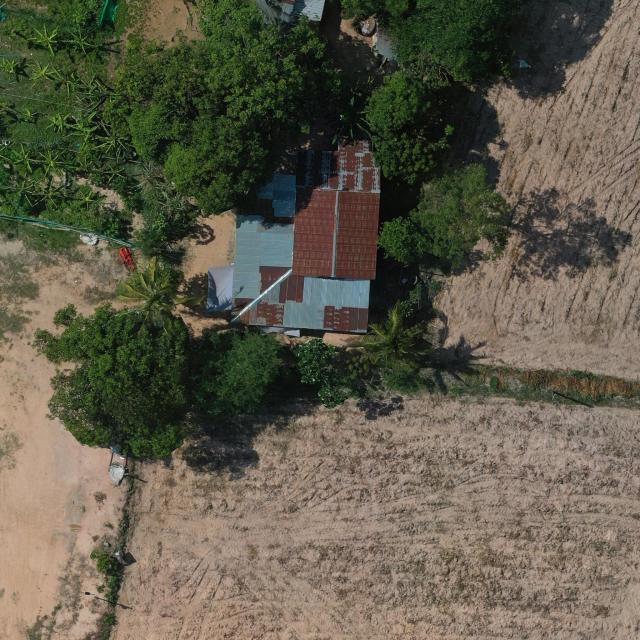Tree: (29, 301, 198, 463), (200, 15, 328, 128), (387, 0, 532, 84), (407, 162, 512, 276), (162, 114, 272, 216), (366, 68, 454, 183), (188, 324, 286, 419), (346, 301, 430, 388), (115, 255, 207, 334), (293, 338, 346, 411), (126, 100, 183, 162), (376, 215, 432, 268), (338, 0, 412, 37), (324, 92, 370, 146), (58, 24, 102, 57), (31, 146, 73, 180), (0, 174, 42, 208), (27, 23, 60, 57), (32, 176, 64, 209), (12, 142, 38, 173), (27, 59, 62, 82), (347, 356, 371, 380), (400, 299, 413, 317)
